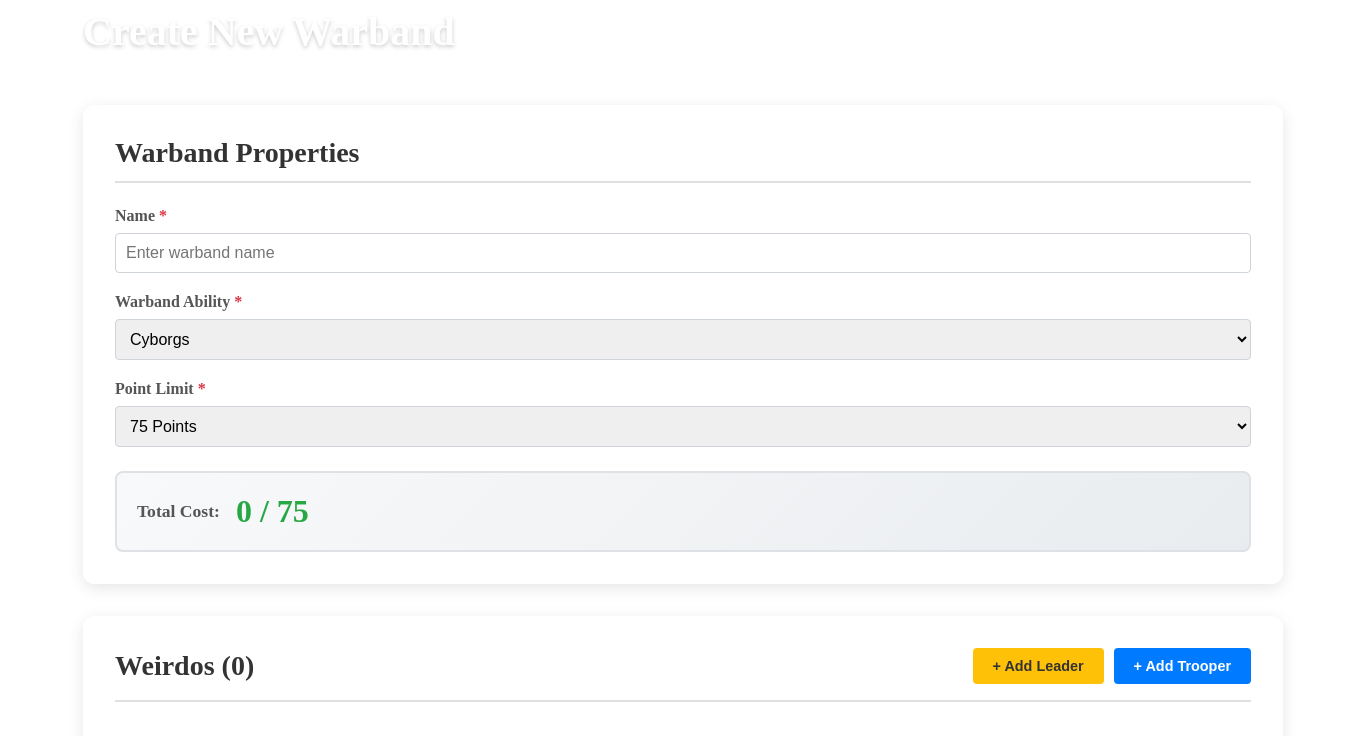
Test: WarbandEditor Component › Validation errors › should display validation errors when save fails validation
Check: the heading "Create New Warband" is shown, box [83,8,455,55]
Type "Test" into the field labelled "Name *". click: [683, 253]
box: [115,233,1251,273]
(page scrolled)
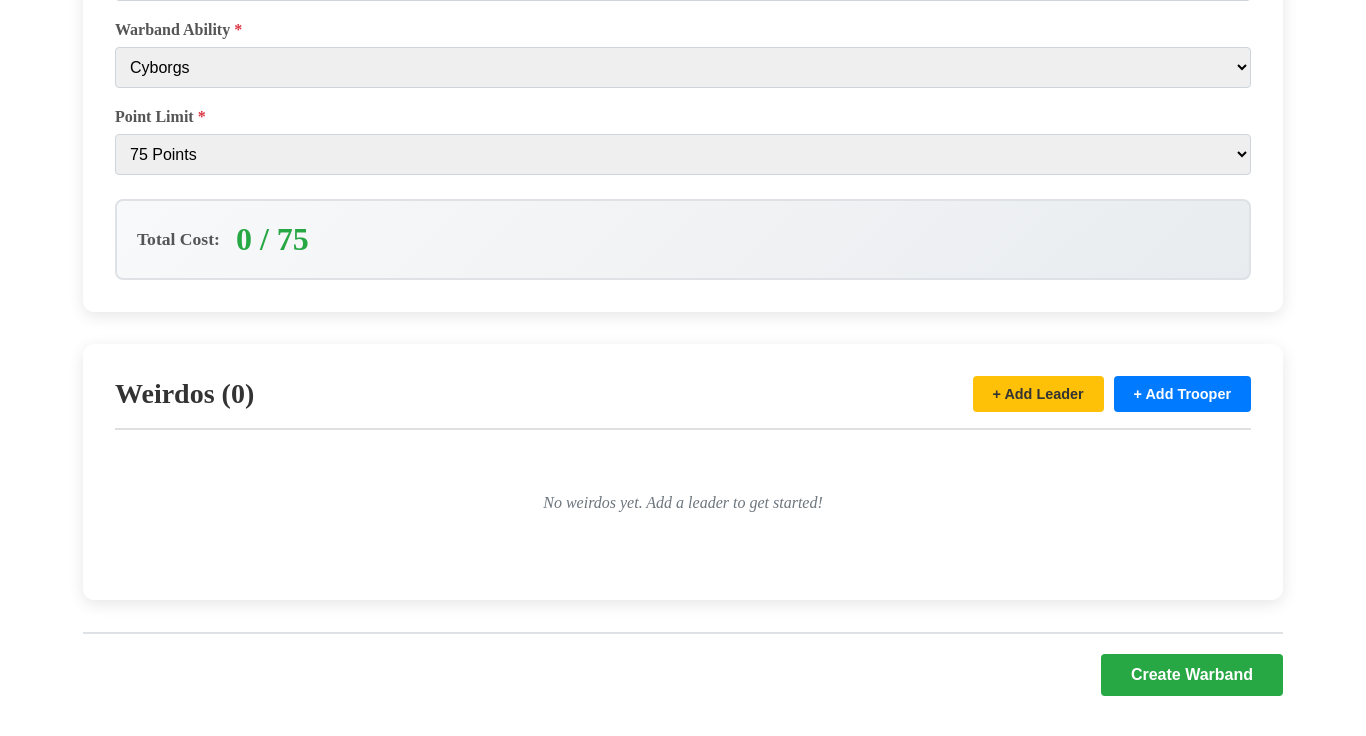
Click the button "Create Warband". click: [1192, 675]
box: [1101,654,1283,696]
(page scrolled)
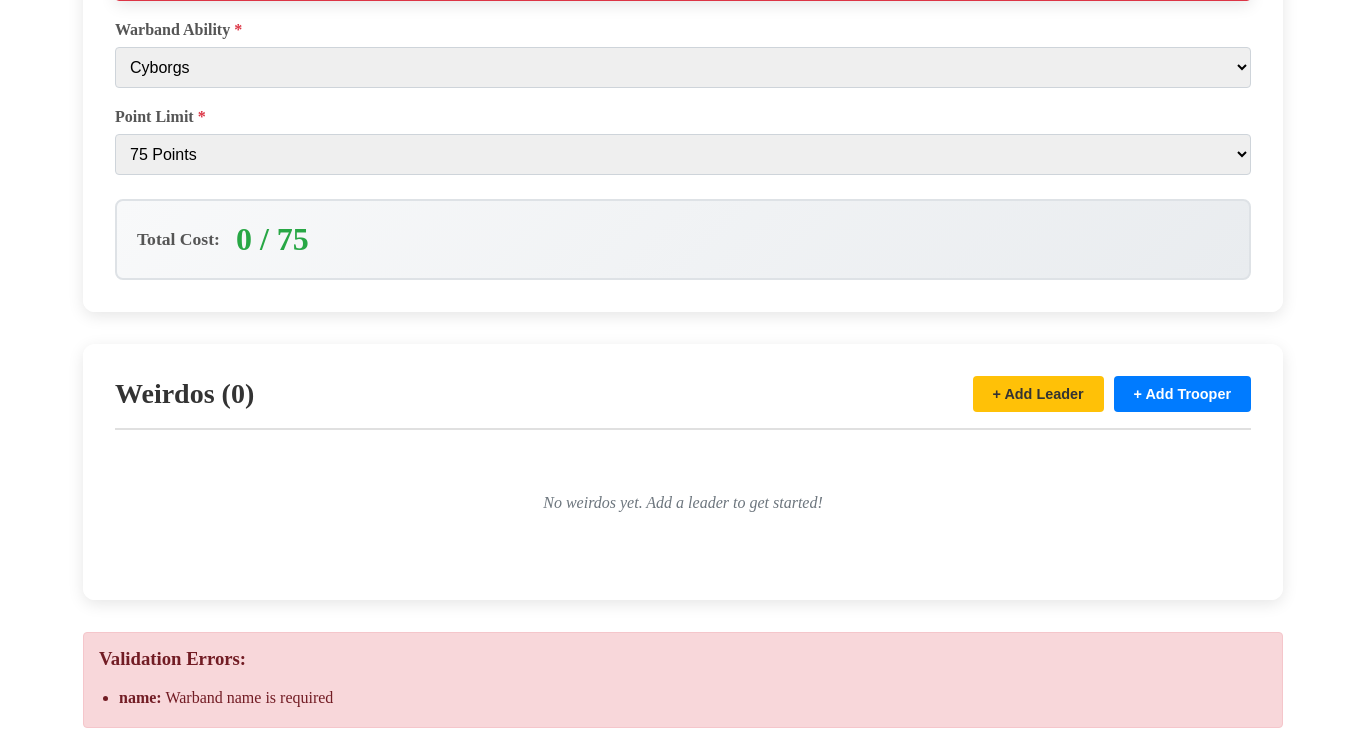
Check: the heading "Validation Errors:" is shown, box [99,648,246,669]
Check: the list item "name: Warband name is required" is shown, box [119,689,333,706]
